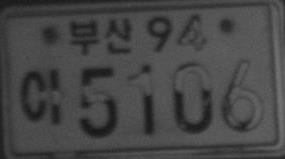0: (172, 62, 213, 134)
1: (124, 63, 164, 135)
4: (177, 14, 207, 51)
5: (78, 66, 118, 139)
6: (221, 60, 263, 132)
9: (146, 15, 173, 52)
부산_H: (68, 17, 134, 56)
아: (19, 68, 65, 124)
